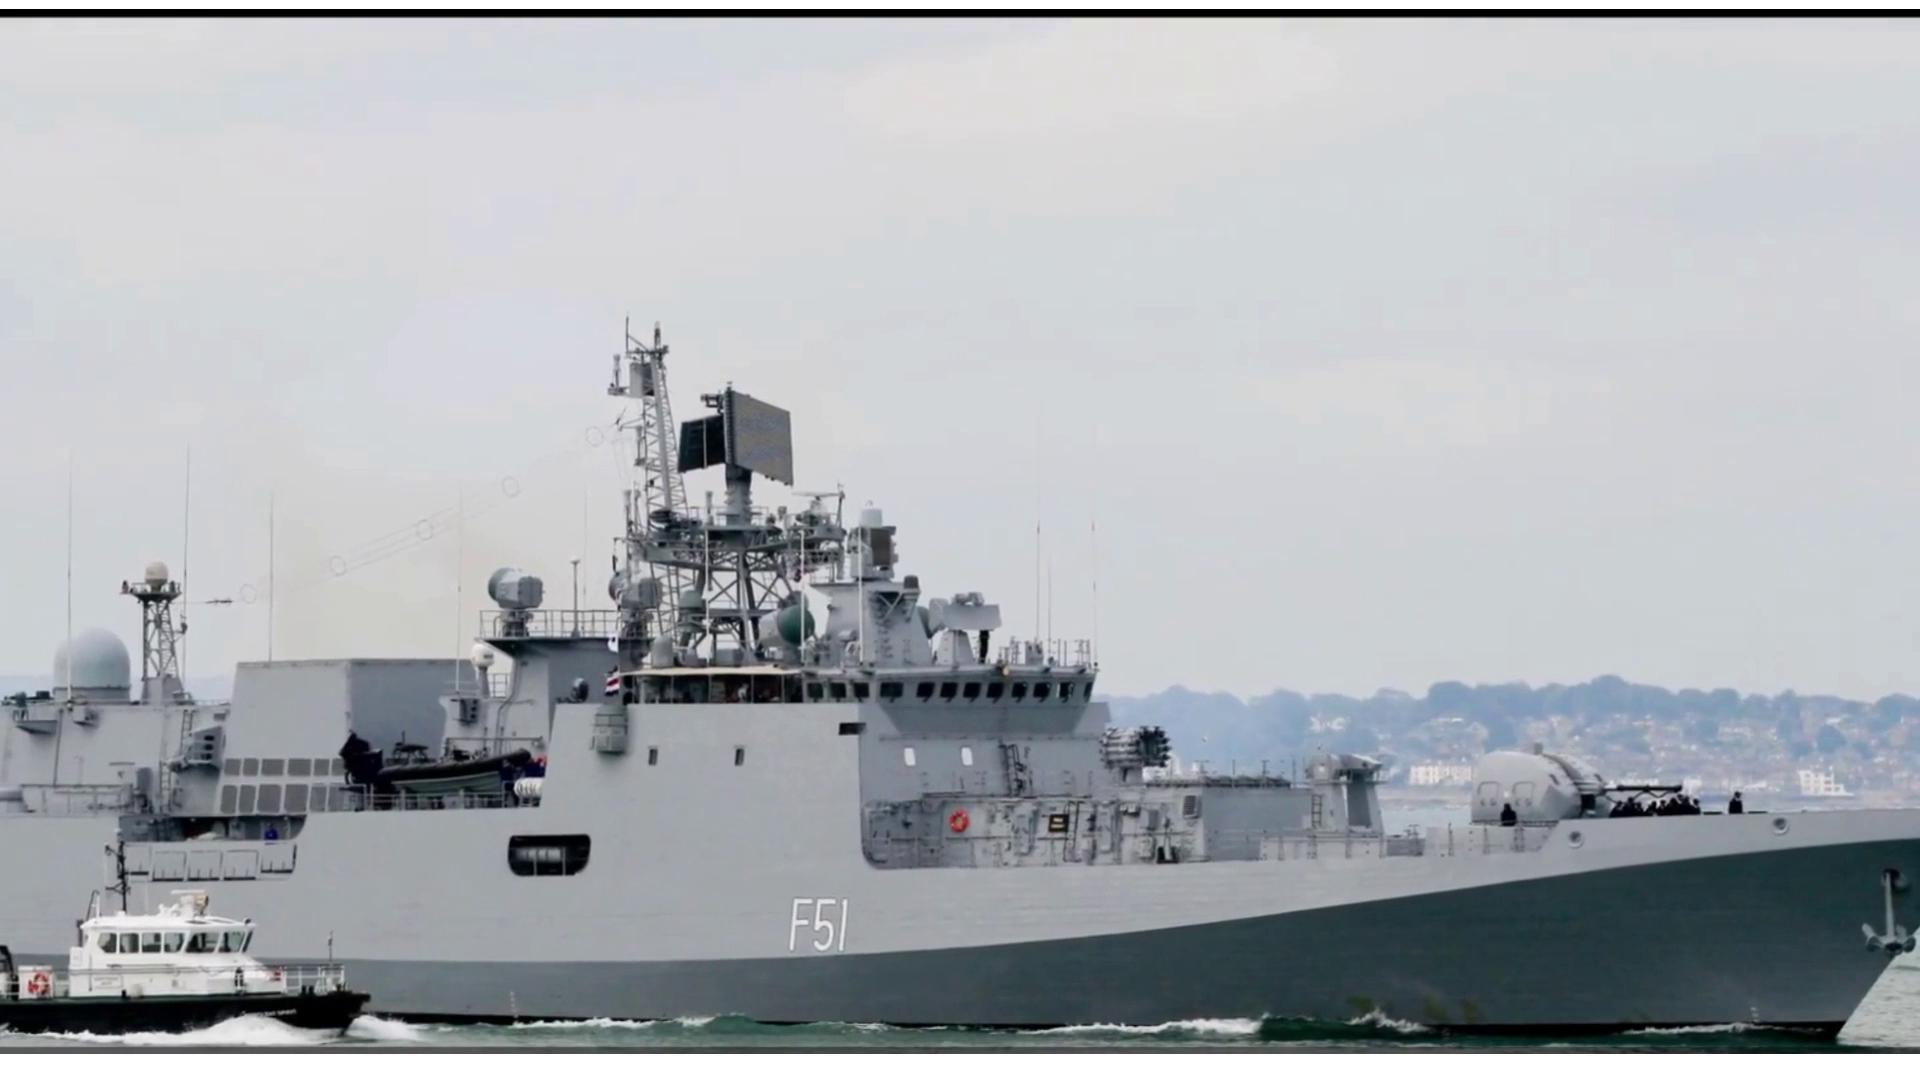OCR: (778, 881, 880, 970)
